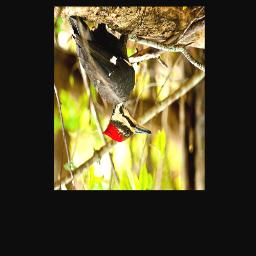Woodpecker: (69, 15, 153, 141)
